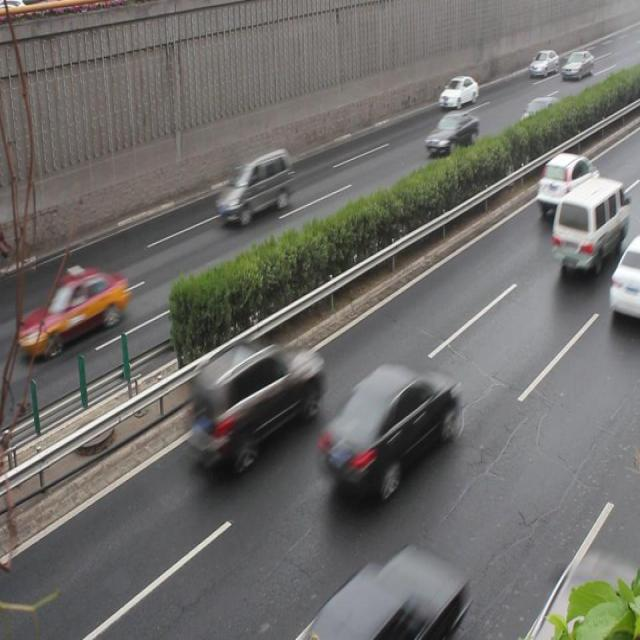car: (319, 359, 455, 490), (187, 339, 322, 459), (309, 540, 463, 639), (24, 264, 129, 348), (534, 149, 597, 211), (424, 106, 477, 158), (515, 95, 561, 143), (437, 75, 476, 110)
